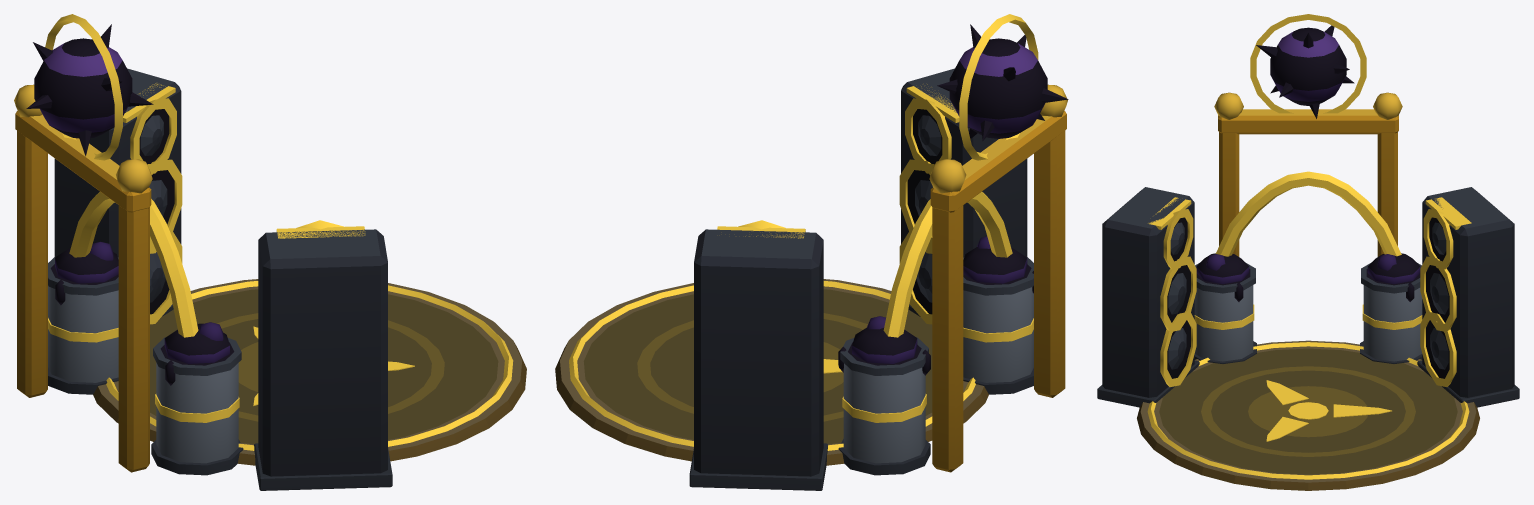
File: train_7.glb
3 views of the same model, side by side, from view 1: azimuth 30°, elevation 25°; view 2: azimuth 150°, elevation 25°; view 3: azimuth 270°, elevation 25° (orthographic). The views are drawn at different scales.
Visible parts, largest first — view 1: Body, Glow; view 2: Body, Glow; view 3: Body, Glow.
Part boxes in pixels (x1,y1,x2,y2): Body: (14,24,526,490); Glow: (45,14,513,450); Body: (555,24,1068,490); Glow: (569,14,1038,450); Body: (1097,25,1519,490); Glow: (1147,14,1471,479).
Bounding box in the file's own units: 4.61 × 3.78 × 4.53.
